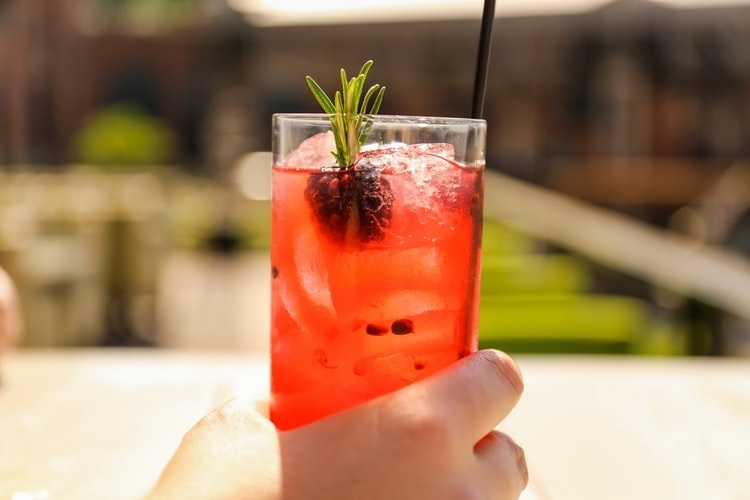whiskey: (262, 101, 495, 474)
